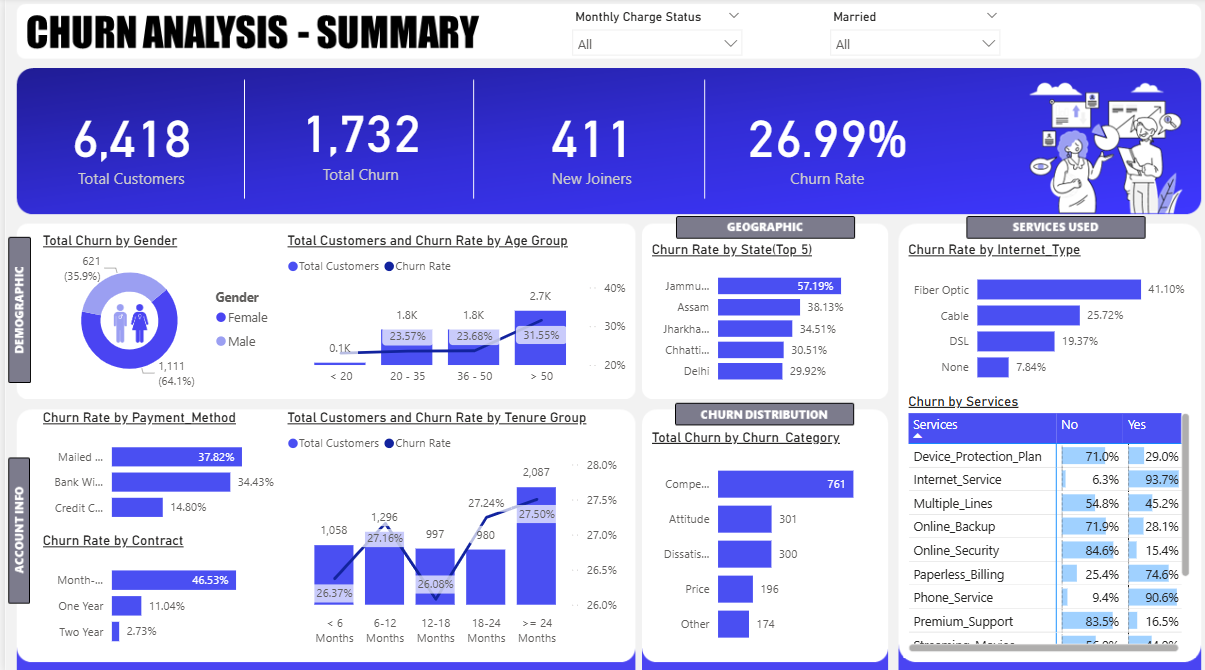

The page's visual inventory and layout, read from the dashboard file:
{"tool":"powerbi","page":{"name":"Summary","canvas":[1280,720],"ordinal":0},"visuals":[{"type":"image","box":[89.1,313.4,89.1,63.6],"z":0},{"type":"card","fields":{"Values":["Measures (2).Total Customers"]},"box":[20.7,85.9,225.9,135.2],"z":1000},{"type":"card","fields":{"Values":["Measures (2).New Joiners"]},"box":[505.8,85.9,232.2,135.2],"z":2000},{"type":"card","fields":{"Values":["Measures (2).Total Churn"]},"box":[260.9,81.1,232.2,135.2],"z":3000},{"type":"card","fields":{"Values":["Measures (2).Churn Rate"]},"box":[755.5,85.9,232.2,135.2],"z":4000},{"type":"donutChart","fields":{"Category":["prod_churn.Gender"],"Y":["Measures (2).Total Churn"]},"box":[35,249.7,259.3,170.2],"z":5000},{"type":"lineStackedColumnComboChart","fields":{"Category":["Mapping_AgeGrp.Age Group"],"Y":["Measures (2).Total Customers"],"Y2":["Measures (2).Churn Rate"]},"box":[294.3,249.7,369,170.2],"z":6000},{"type":"clusteredBarChart","fields":{"Y":["Measures (2).Churn Rate"],"Category":["prod_churn.Payment_Method"]},"box":[35,437.4,259.3,130.4],"z":7000},{"type":"clusteredBarChart","fields":{"Y":["Measures (2).Churn Rate"],"Category":["prod_churn.Contract"]},"box":[35,567.8,259.3,132],"z":8000},{"type":"lineStackedColumnComboChart","fields":{"Category":["Mapping_TenureGrp.Tenure Group"],"Y":["Measures (2).Total Customers"],"Y2":["Measures (2).Churn Rate"]},"box":[294.3,437.4,359.5,257.7],"z":9000},{"type":"clusteredBarChart","title":"Churn Rate by State(Top 5)","fields":{"Category":["prod_churn.State"],"Y":["Measures (2).Churn Rate"]},"box":[680.8,259.3,248.1,160.7],"z":10000},{"type":"clusteredBarChart","fields":{"Category":["prod_churn.Churn_Category"],"Y":["Measures (2).Total Churn"]},"box":[680.8,458.1,248.1,241.8],"z":11000},{"type":"clusteredBarChart","fields":{"Category":["prod_churn.Internet_Type"],"Y":["Measures (2).Churn Rate"]},"box":[952.8,259.3,308.6,160.7],"z":12000},{"type":"pivotTable","title":"Churn by Services","fields":{"Rows":["prod_Services.Services"],"Columns":["prod_Services.Status"],"Values":["Sum(prod_Services.Churn Status)"]},"box":[952.8,419.9,308.6,279.9],"z":13000},{"type":"slicer","fields":{"Values":["prod_churn.Monthly Charge Status"]},"box":[592,8,200,55],"z":14000},{"type":"slicer","fields":{"Values":["prod_churn.Married"]},"box":[865.3,8,200,55],"z":15000}]}

Visuals, with their boxes in screenshot pixels (x1, y1, x2, y2), scaled from the page's 1280x720 canvas onto the 1205x670 screenshot:
image: BBox(84, 292, 168, 351)
card - Measures (2).Total Customers: BBox(19, 80, 232, 206)
card - Measures (2).New Joiners: BBox(476, 80, 695, 206)
card - Measures (2).Total Churn: BBox(246, 75, 464, 201)
card - Measures (2).Churn Rate: BBox(711, 80, 930, 206)
donutChart - prod_churn.Gender x Measures (2).Total Churn: BBox(33, 232, 277, 391)
lineStackedColumnComboChart - Mapping_AgeGrp.Age Group x Measures (2).Total Customers: BBox(277, 232, 624, 391)
clusteredBarChart - Measures (2).Churn Rate x prod_churn.Payment_Method: BBox(33, 407, 277, 528)
clusteredBarChart - Measures (2).Churn Rate x prod_churn.Contract: BBox(33, 528, 277, 651)
lineStackedColumnComboChart - Mapping_TenureGrp.Tenure Group x Measures (2).Total Customers: BBox(277, 407, 615, 647)
"Churn Rate by State(Top 5)" clusteredBarChart: BBox(641, 241, 874, 391)
clusteredBarChart - prod_churn.Churn_Category x Measures (2).Total Churn: BBox(641, 426, 874, 651)
clusteredBarChart - prod_churn.Internet_Type x Measures (2).Churn Rate: BBox(897, 241, 1187, 391)
"Churn by Services" pivotTable: BBox(897, 391, 1187, 651)
slicer - prod_churn.Monthly Charge Status: BBox(557, 7, 746, 59)
slicer - prod_churn.Married: BBox(815, 7, 1003, 59)
